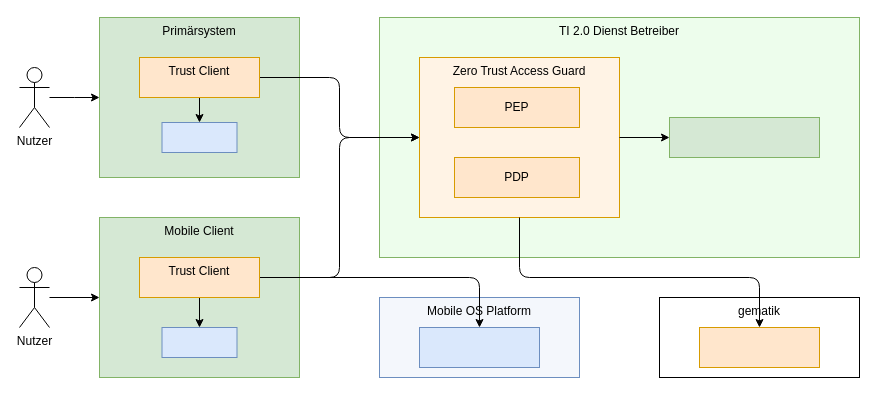
This 877x395 diagram has some shape labels left out. Here are the shapes that lost their labels. From the top down, the centre of each, then its label:
point (199, 137): TPM
point (744, 137): Resource Server (Application Backend)
point (199, 342): TEE
point (479, 347): Mobile OS Attestation
point (759, 347): PIP und PAP Service
